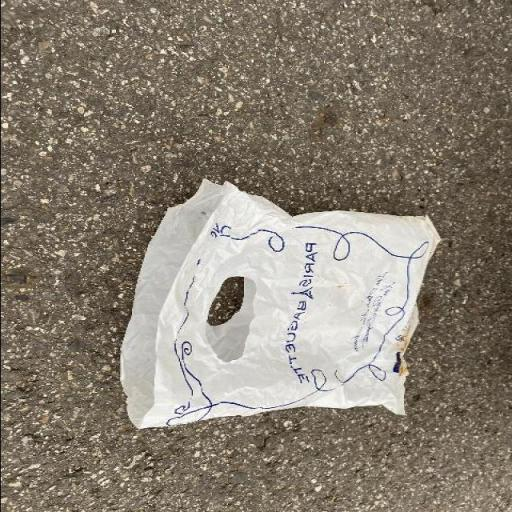plastic-bag: (118, 177, 440, 433)
